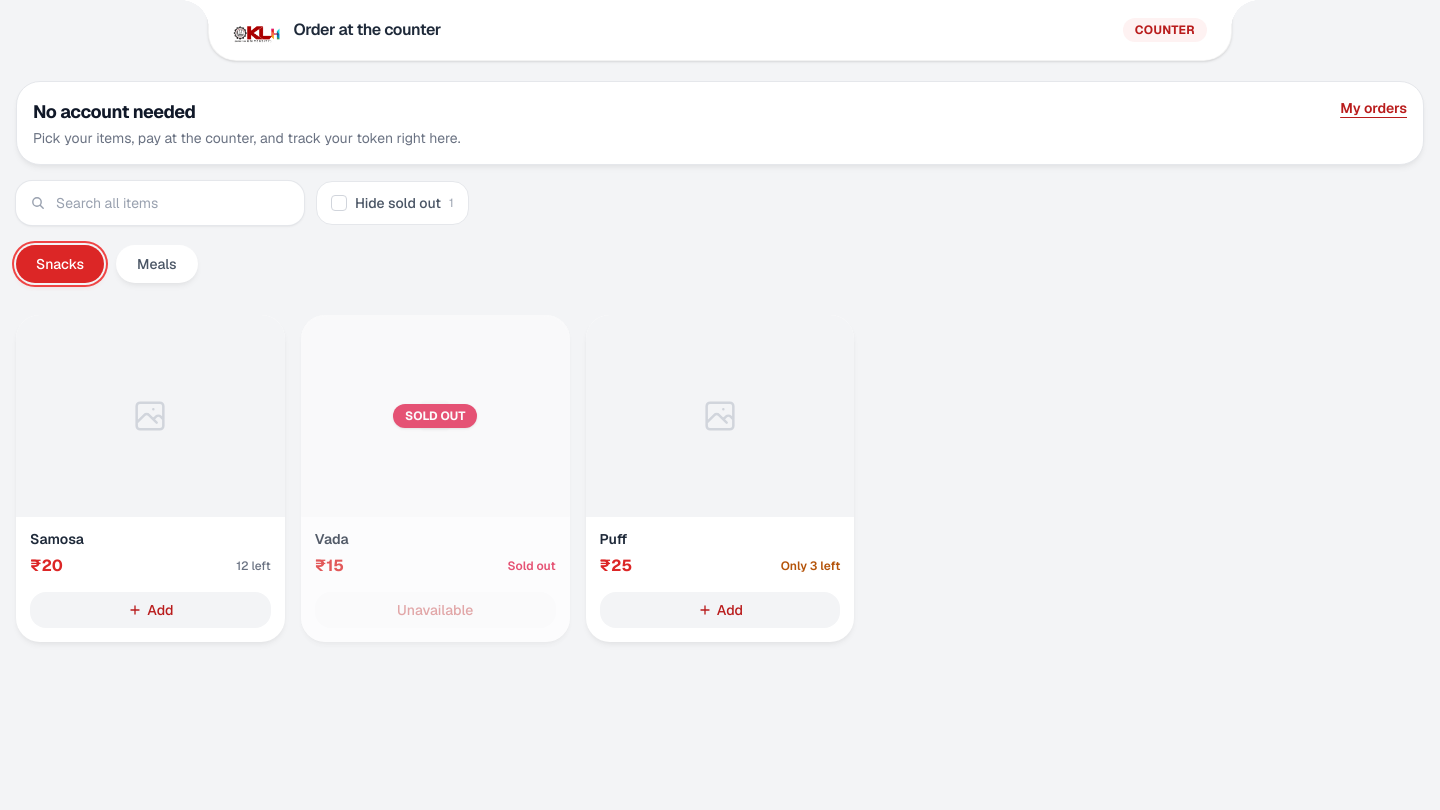
it: distinguishes a search that matched nothing from an empty category
The width and height of the screenshot is (1440, 810).
expect the heading "Samosa" is shown: met, box [30, 530, 84, 548]
Type "biryani" into the field named "search the menu" at (160, 203), box [56, 193, 264, 213]
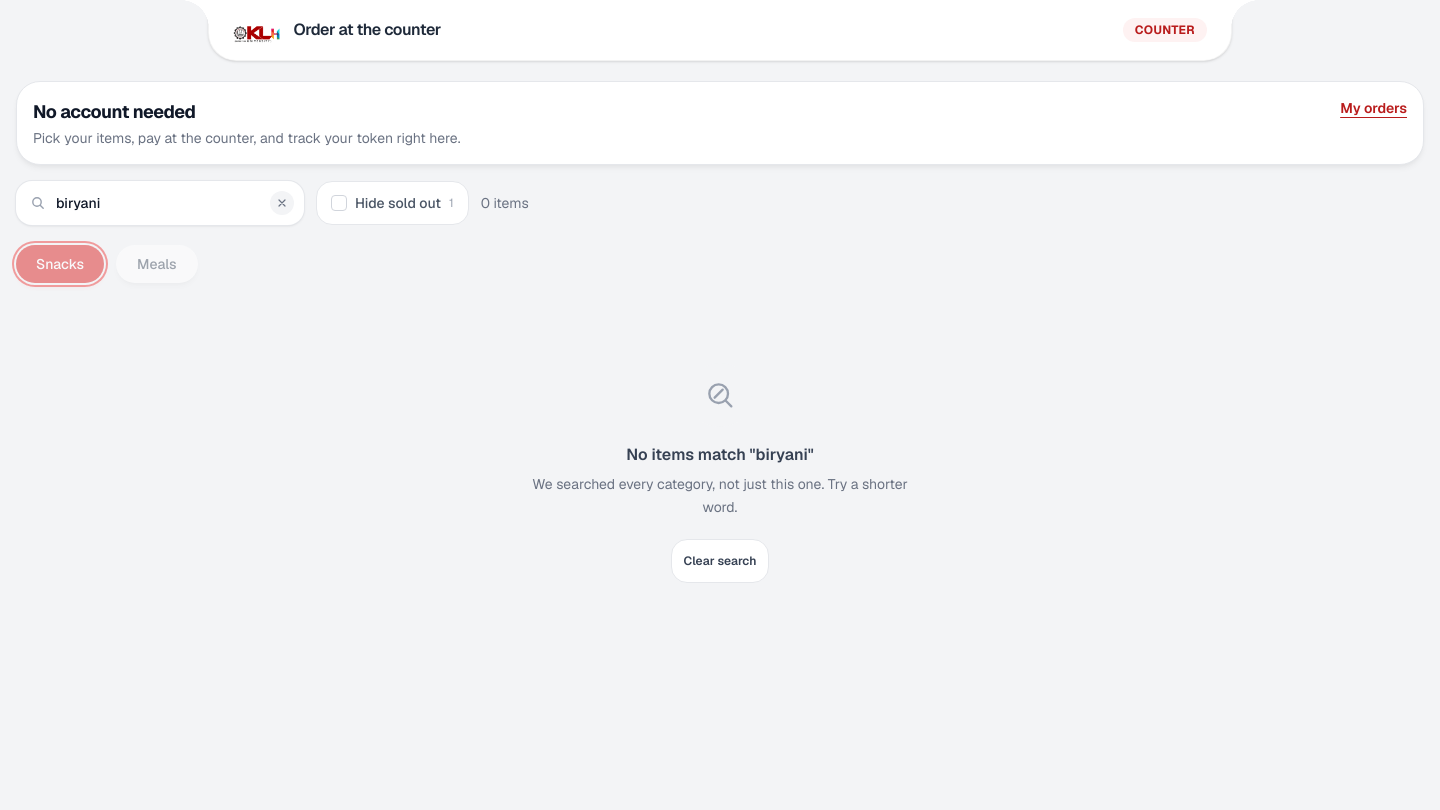
expect the text "No items match \"biryani\"" is shown: met, box [626, 444, 814, 465]
expect the text "We searched every category" is shown: met, box [532, 475, 908, 516]
# And the empty state hands back a way out.
Click the button "Clear search" at (720, 560), box [671, 538, 769, 582]
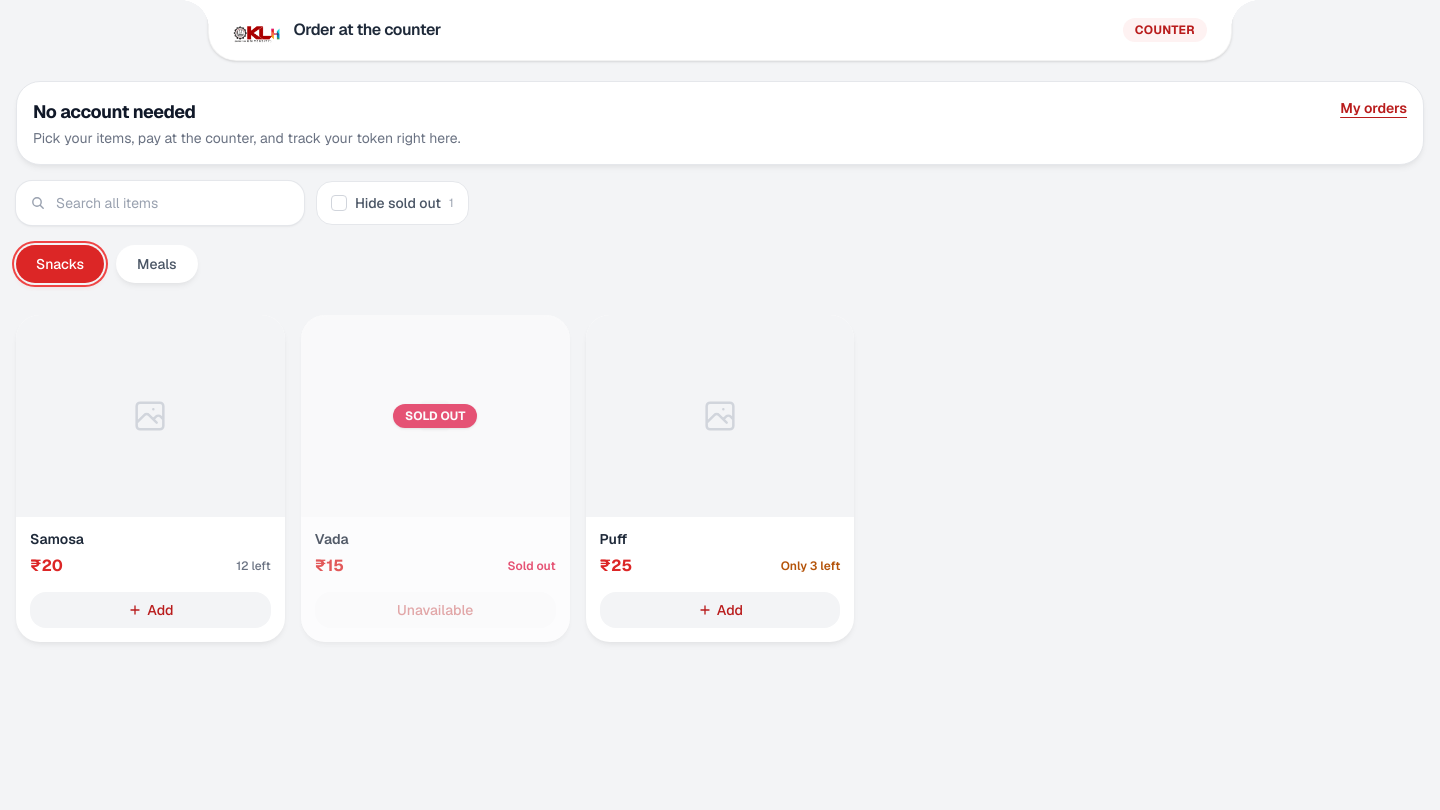
expect the heading "Samosa" is shown: met, box [30, 530, 84, 548]
